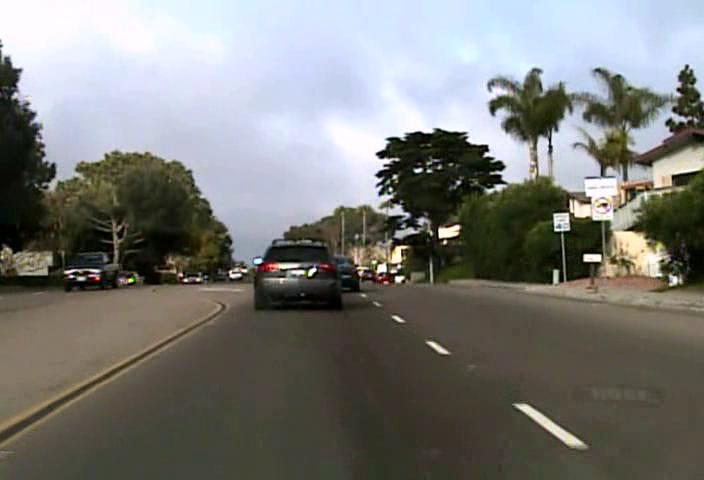speedLimit40: (552, 211, 570, 232)
